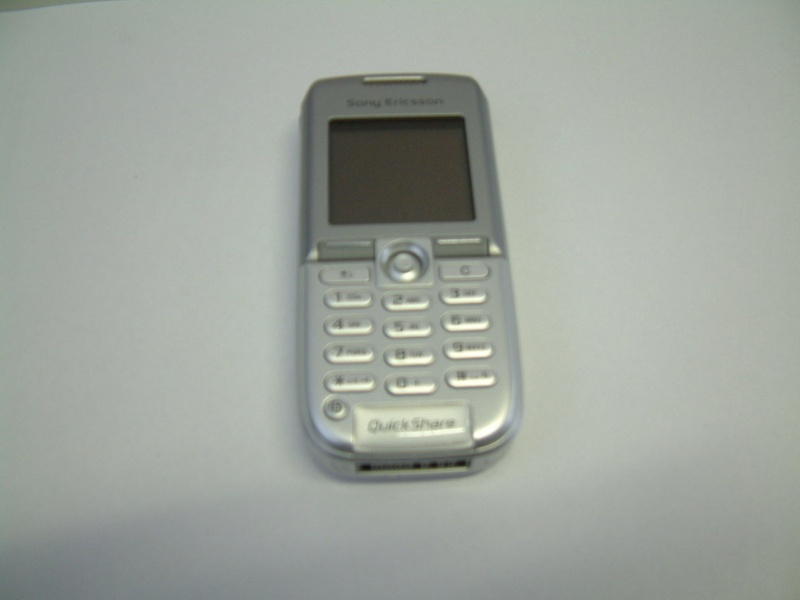cellphone: (298, 74, 529, 472)
